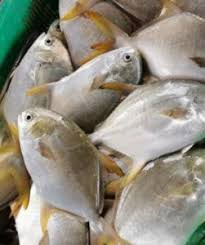Ikan Bawal: (11, 106, 113, 235), (56, 44, 148, 123), (6, 29, 75, 134)
